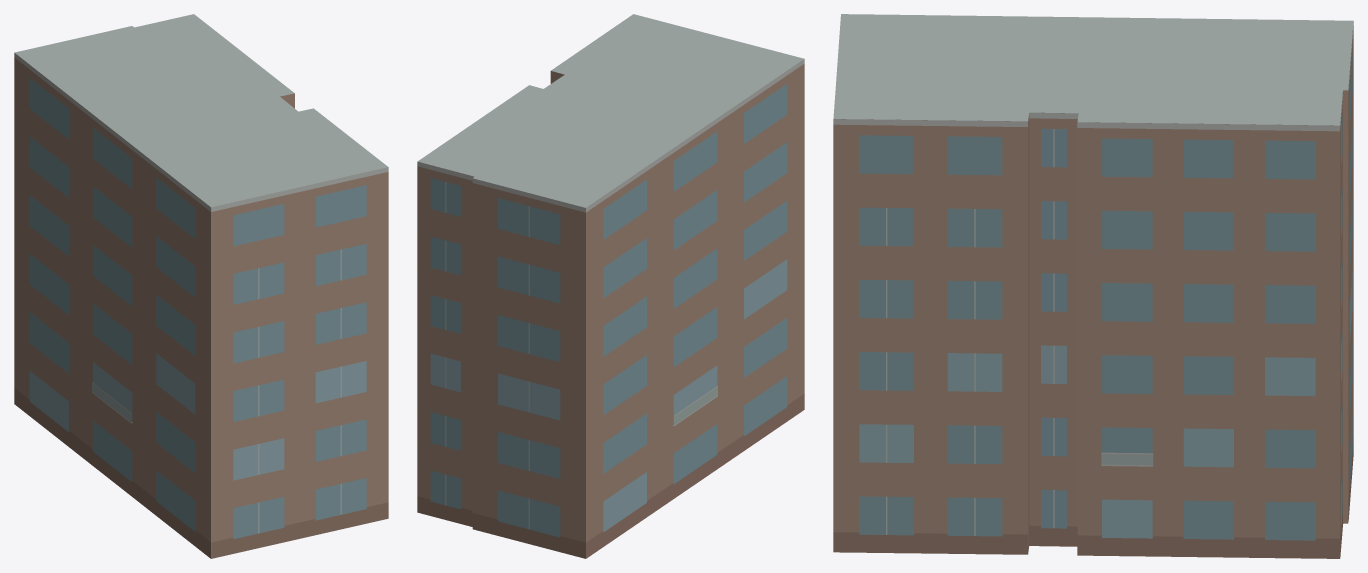
Rendered from survey-upis-32736565.glb.
3 views of the same model, side by side, from view 1: azimuth 30°, elevation 25°; view 2: azimuth 150°, elevation 25°; view 3: azimuth 270°, elevation 25° (orthographic). The views are drawn at different scales.
Parts seen in each view (by area): view 1: survey-upis-32736565.tmp; view 2: survey-upis-32736565.tmp; view 3: survey-upis-32736565.tmp.
Part boxes in pixels (x1,y1,x2,y2): survey-upis-32736565.tmp: (14, 14, 388, 558); survey-upis-32736565.tmp: (417, 14, 804, 558); survey-upis-32736565.tmp: (833, 14, 1353, 558).
Bounding box in the file's own units: 10.11 × 18.3 × 19.92.
